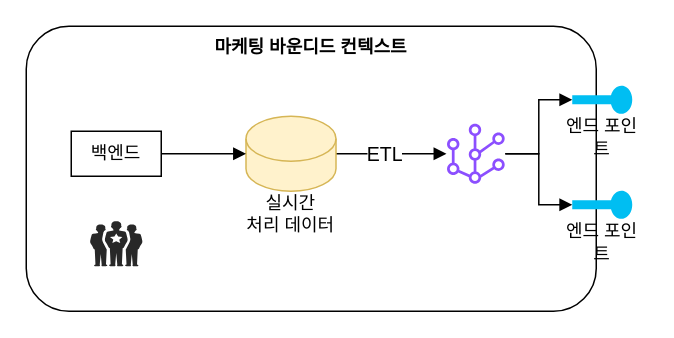
The diagram is 674 pixels wide and 338 high, and some of its shapes have lost their labels. Each missing label, with the centre of its shape:
"마케팅 분석 모델" belongs at point (475, 153).
"마케팅 팀" belongs at point (115, 243).
